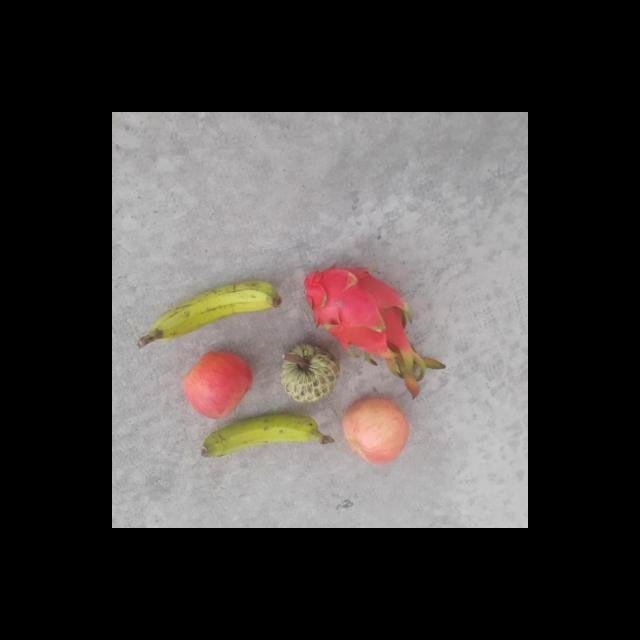Sakya fruit: (274, 345, 335, 405)
apple: (182, 350, 251, 420), (344, 400, 410, 466)
banana: (152, 277, 284, 349), (202, 408, 324, 462)
pitaya: (303, 262, 412, 354)
